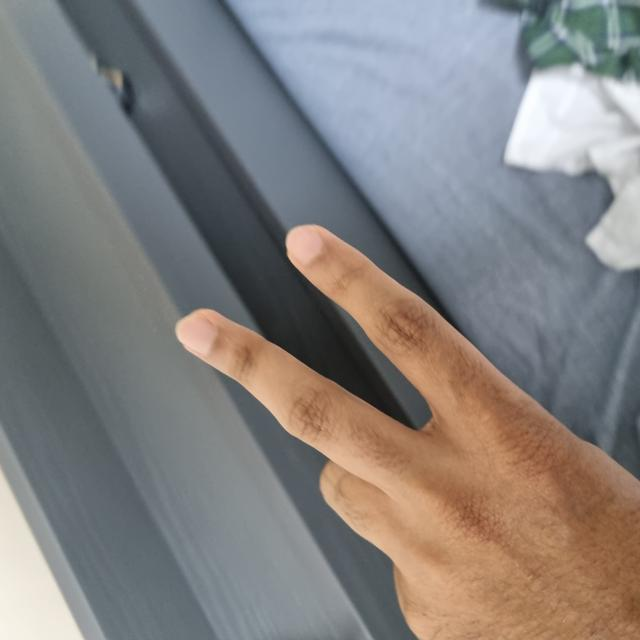Scissors: (0, 181, 414, 639)
